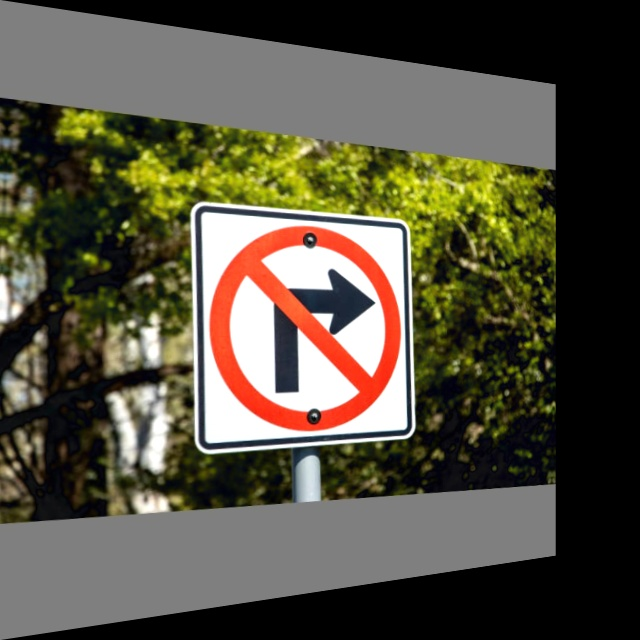Right_Turn_Prohibited: (201, 216, 410, 442)
